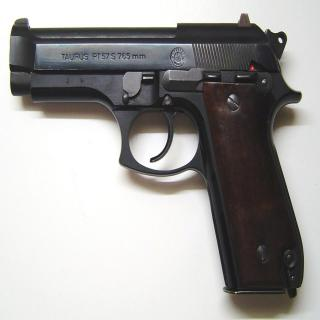gun: (2, 0, 304, 310)
